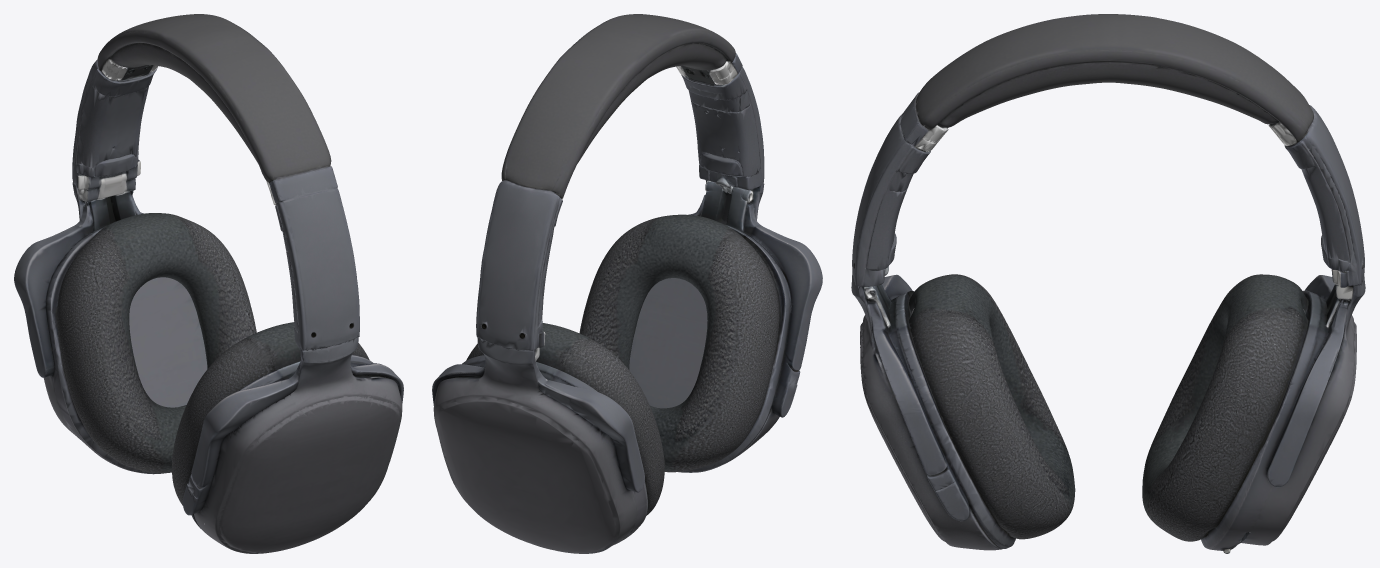
3 views of the same model, side by side, from view 1: azimuth 30°, elevation 25°; view 2: azimuth 150°, elevation 25°; view 3: azimuth 270°, elevation 25° (orthographic). The views are drawn at different scales.
Parts seen in each view (by area): view 1: tripo_node_bece2ea1-febd-4fad-b1be-3543008432b4; view 2: tripo_node_bece2ea1-febd-4fad-b1be-3543008432b4; view 3: tripo_node_bece2ea1-febd-4fad-b1be-3543008432b4.
Part boxes in pixels (x1=…): tripo_node_bece2ea1-febd-4fad-b1be-3543008432b4: x1=14, y1=14, x2=403, y2=553; tripo_node_bece2ea1-febd-4fad-b1be-3543008432b4: x1=432, y1=14, x2=822, y2=553; tripo_node_bece2ea1-febd-4fad-b1be-3543008432b4: x1=851, y1=14, x2=1365, y2=553.
Size of the model in its own units: 0.4339 by 0.9802 by 0.8873.
1 material, 1 textured.
